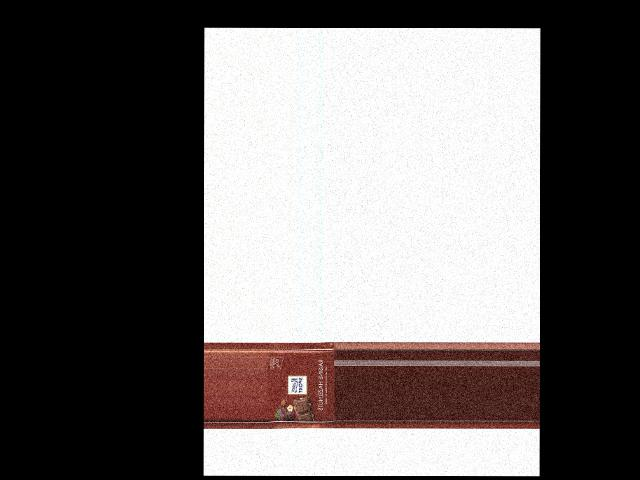chocolate: (267, 342, 335, 430)
